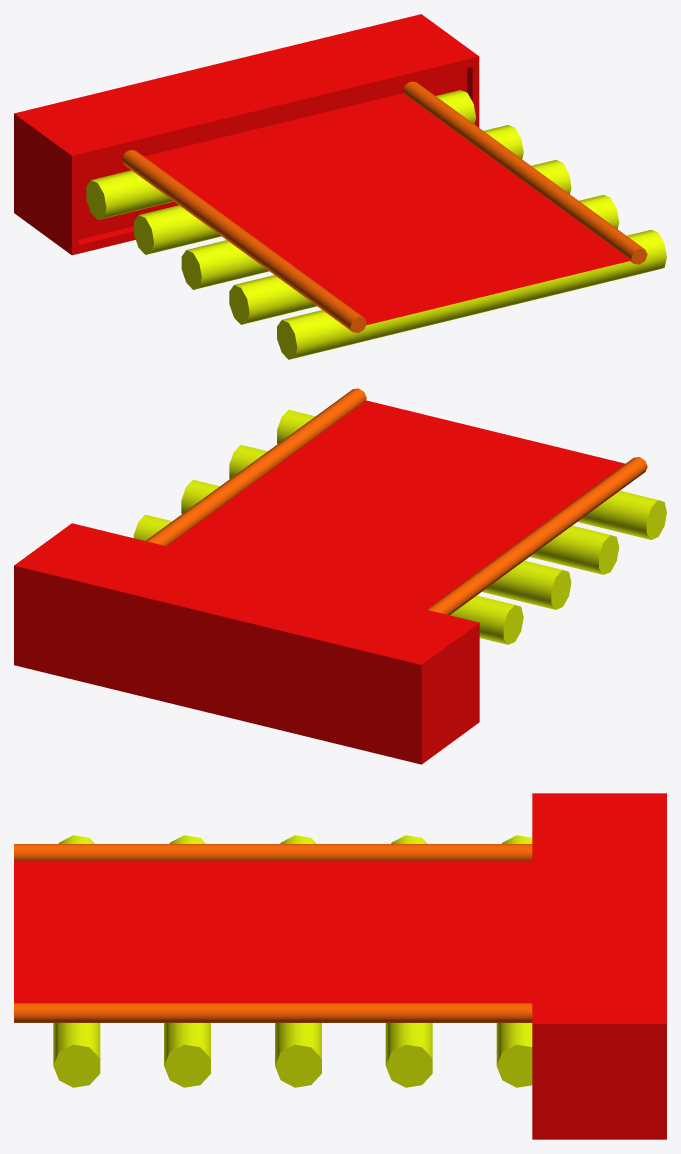
Rendered from puentelevel3_2 (1).fbx.
3 views of the same model, one above another, from view 1: azimuth 30°, elevation 25°; view 2: azimuth 150°, elevation 25°; view 3: azimuth 270°, elevation 25° (orthographic). The views are drawn at different scales.
Parts seen in each view (by area): view 1: Line002, Object001; view 2: Line002, Object001; view 3: Line002, Object001.
Boxes of the visible parts, x1=… form: Line002: x1=86, y1=81, x2=666, y2=359; Object001: x1=14, y1=14, x2=479, y2=255; Line002: x1=133, y1=388, x2=666, y2=644; Object001: x1=14, y1=523, x2=479, y2=764; Line002: x1=14, y1=835, x2=532, y2=1087; Object001: x1=532, y1=793, x2=666, y2=1139.
Size of the model in its own units: 6.34 by 1.48 by 7.57.
